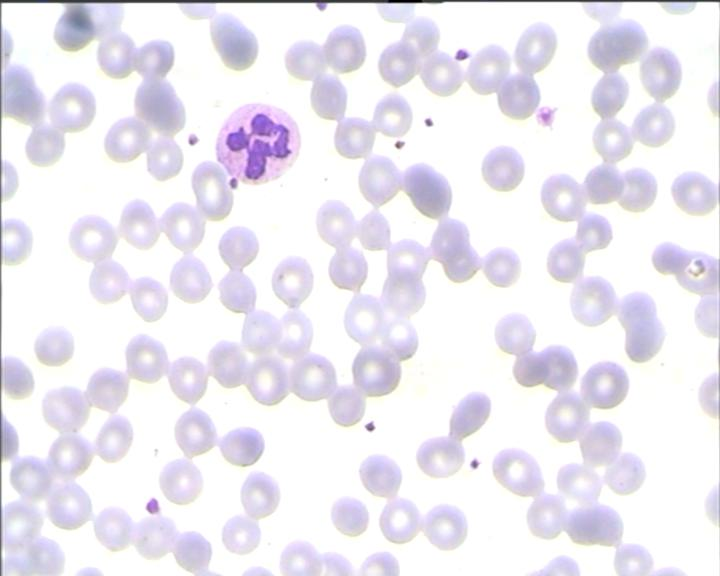neut: (208, 97, 303, 186)
